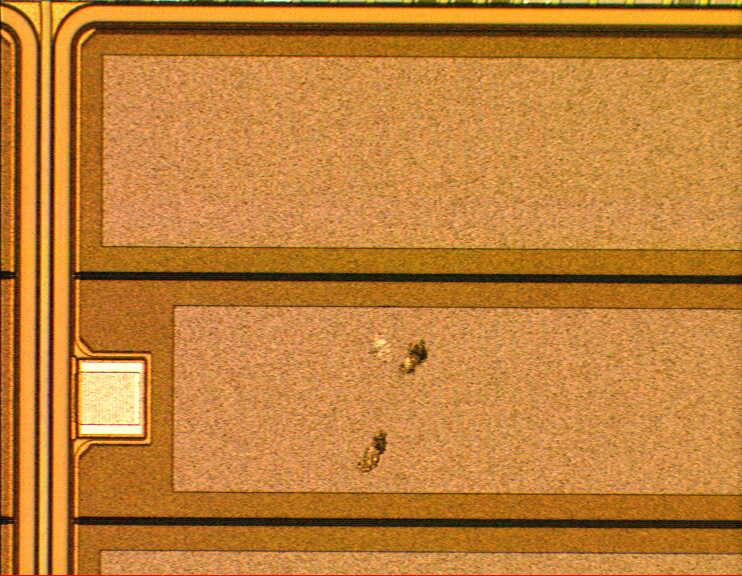SCRATCH: (346, 317, 441, 486)
